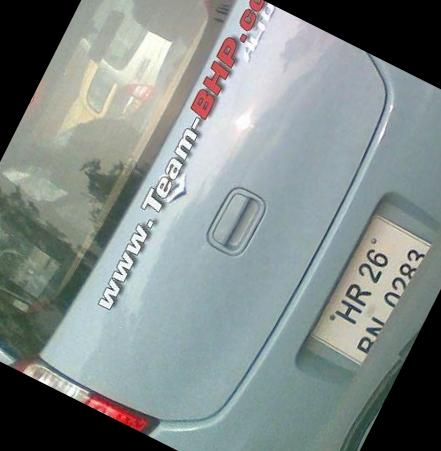plate: (304, 208, 436, 376)
